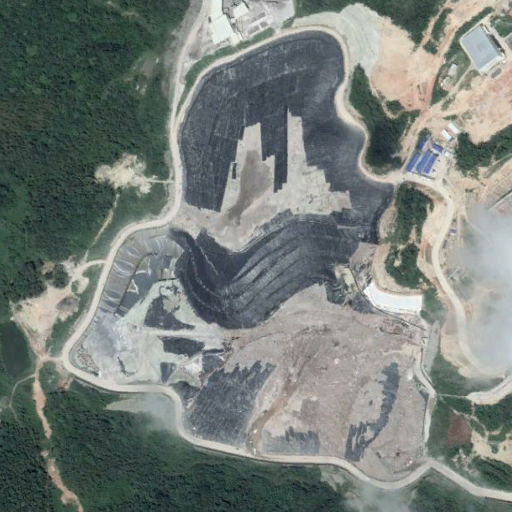lf: (67, 32, 452, 485)
